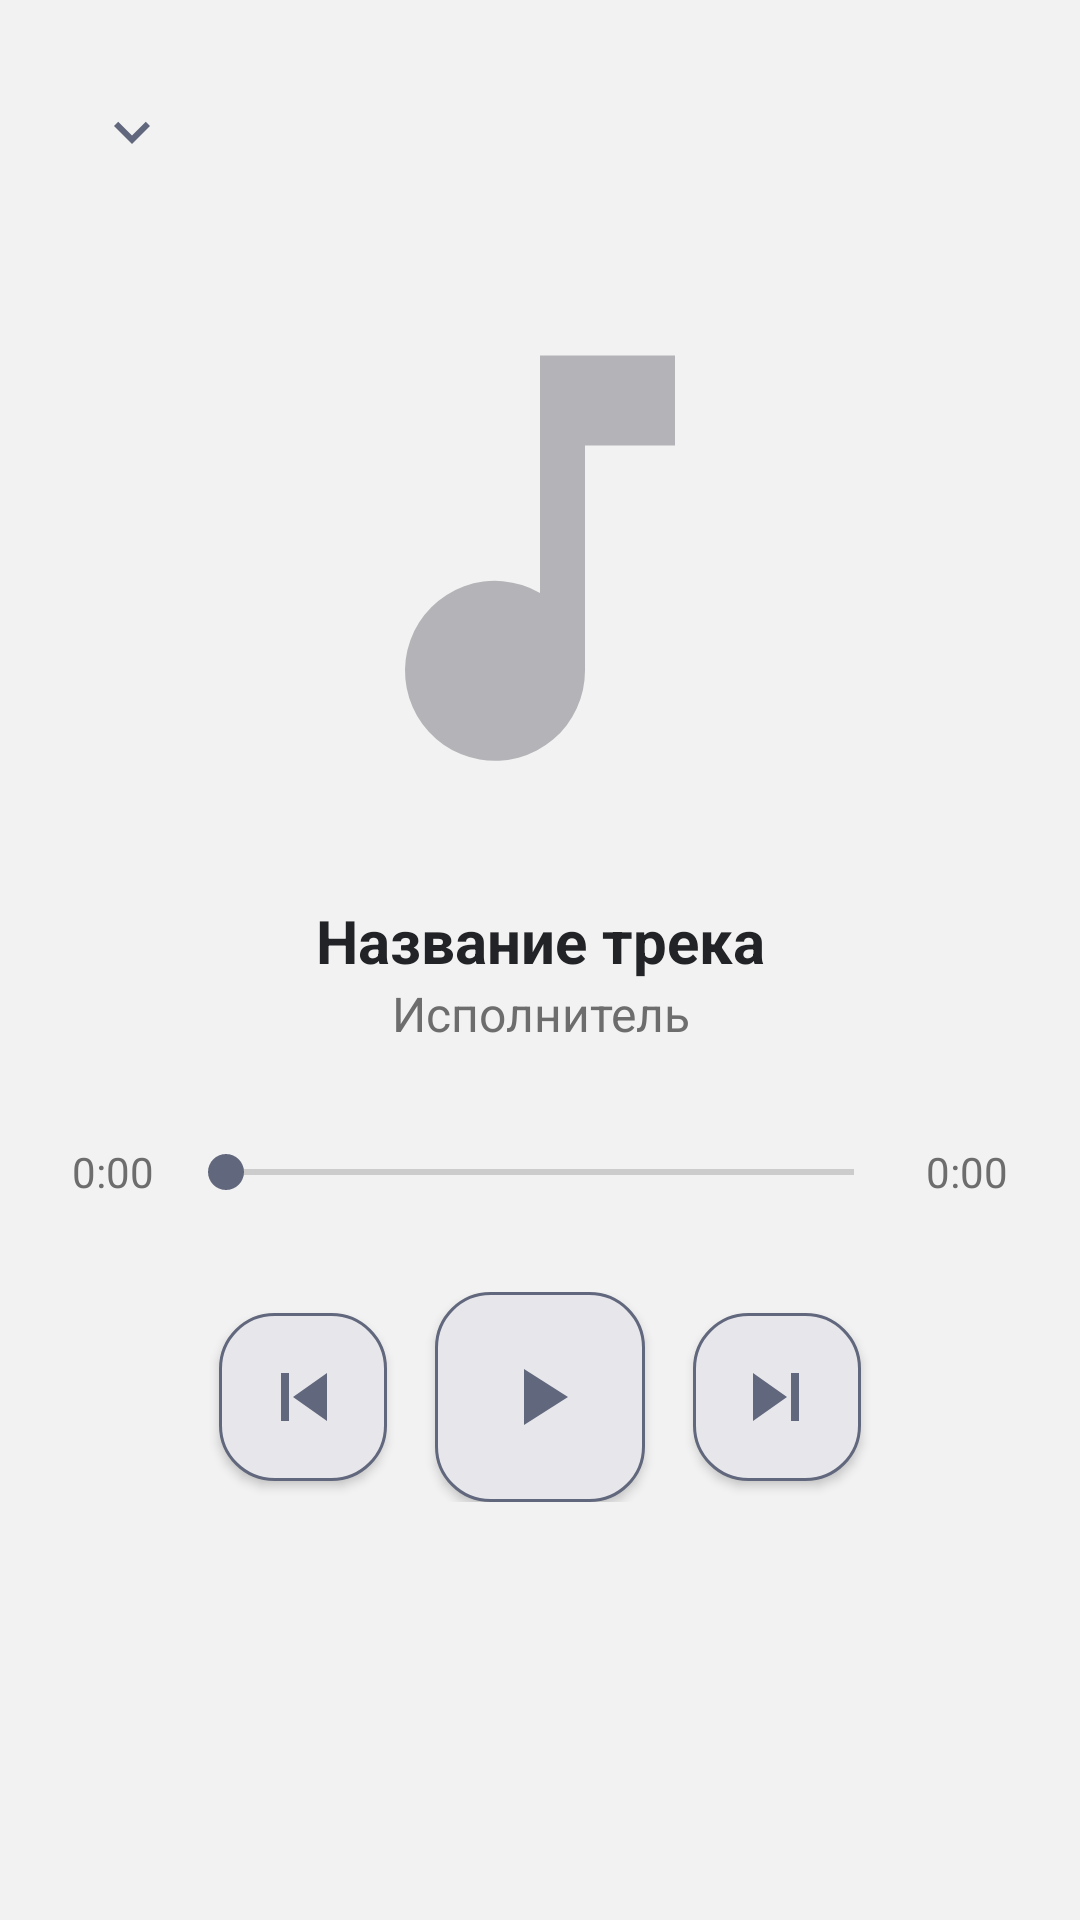

Screen size 1080x1920. Icon name, then its box in pixels as (x1, y1, x2, y2):
expand more: (114, 122, 150, 144)
Вперед: (693, 1313, 861, 1481)
Назад: (219, 1313, 387, 1481)
Пуск: (435, 1292, 645, 1502)
